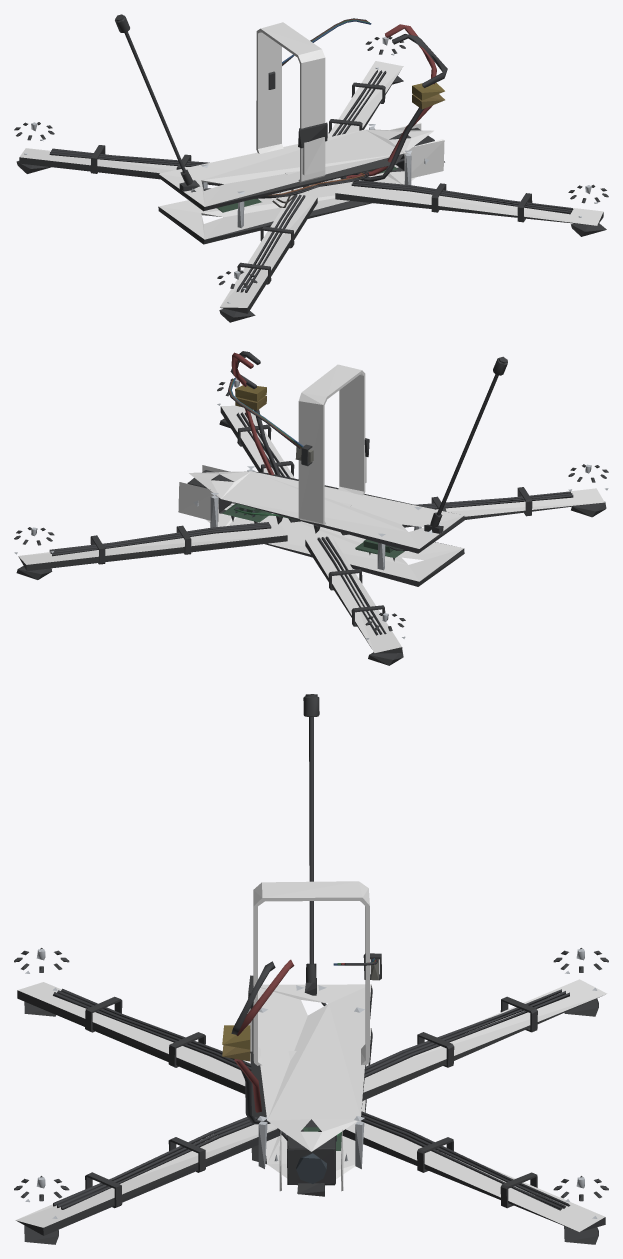
Rendered from Body_LOD1.glb.
3 renders of one model, top to bottom at view 1: azimuth 30°, elevation 25°; view 2: azimuth 150°, elevation 25°; view 3: azimuth 270°, elevation 25°, orthographic. The views are drawn at different scales.
Visible parts, largest first — view 1: Antenna_BracketBolt.001_LOD1.001; view 2: Antenna_BracketBolt.001_LOD1.001; view 3: Antenna_BracketBolt.001_LOD1.001.
Part boxes in pixels (x1,y1,x2,y2): Antenna_BracketBolt.001_LOD1.001: (14, 14, 608, 322); Antenna_BracketBolt.001_LOD1.001: (14, 351, 608, 665); Antenna_BracketBolt.001_LOD1.001: (14, 694, 608, 1244).
Bounding box in the file's own units: 0.3215 × 0.1816 × 0.3196.
